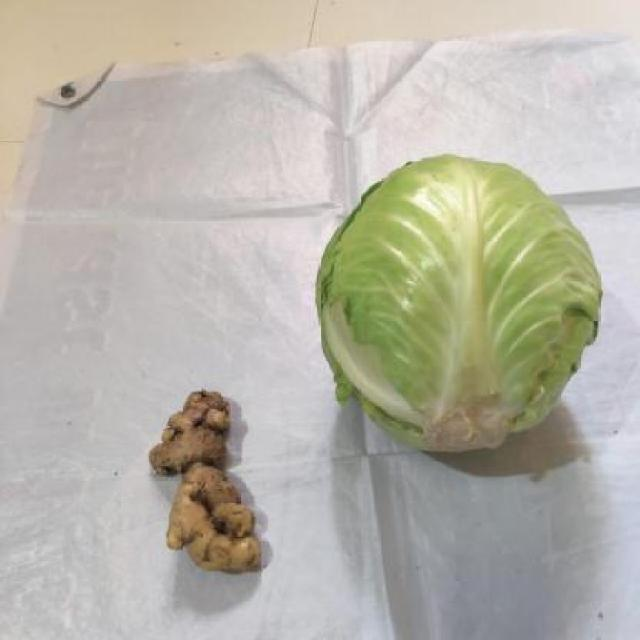Cabbage: (312, 154, 606, 454)
Ginger: (149, 389, 265, 577)
